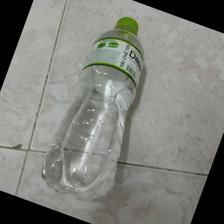Dasani: (42, 17, 145, 209)
